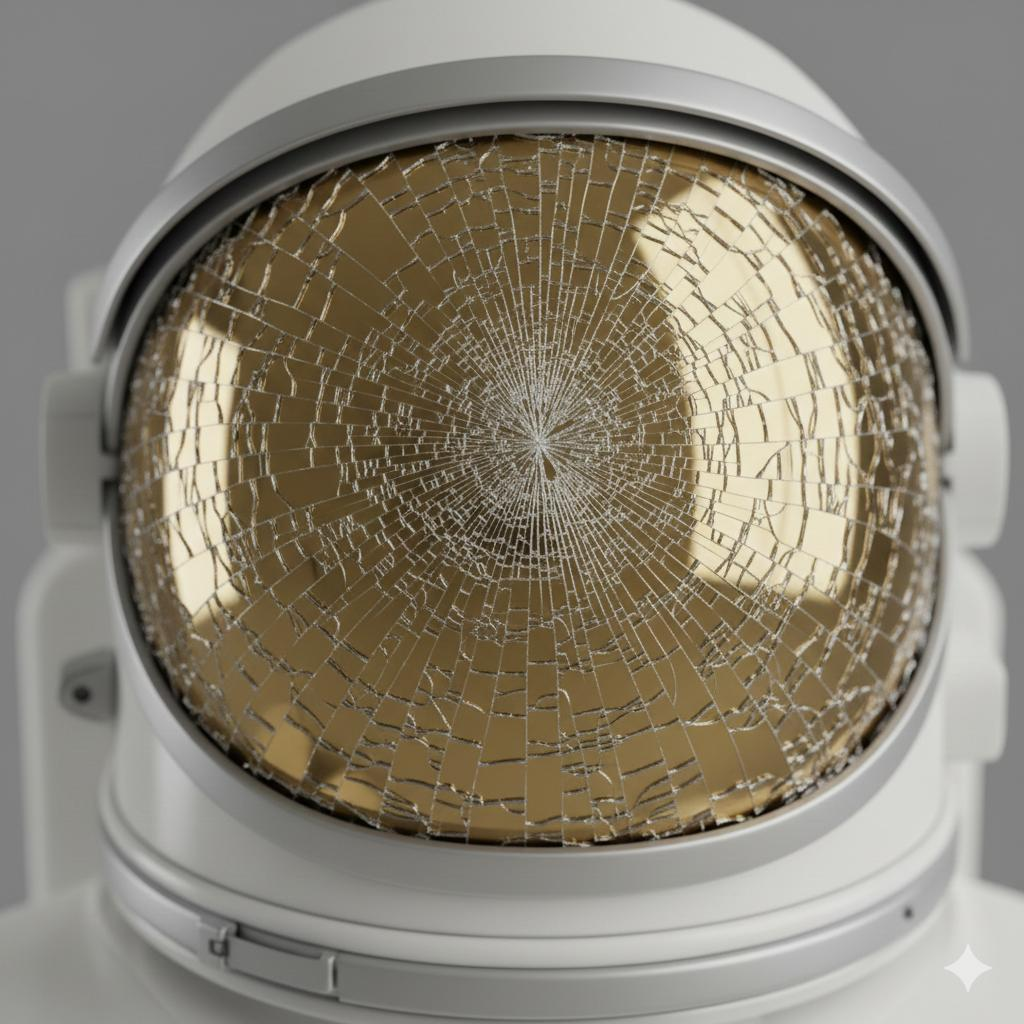crack: (58, 133, 1024, 886)
